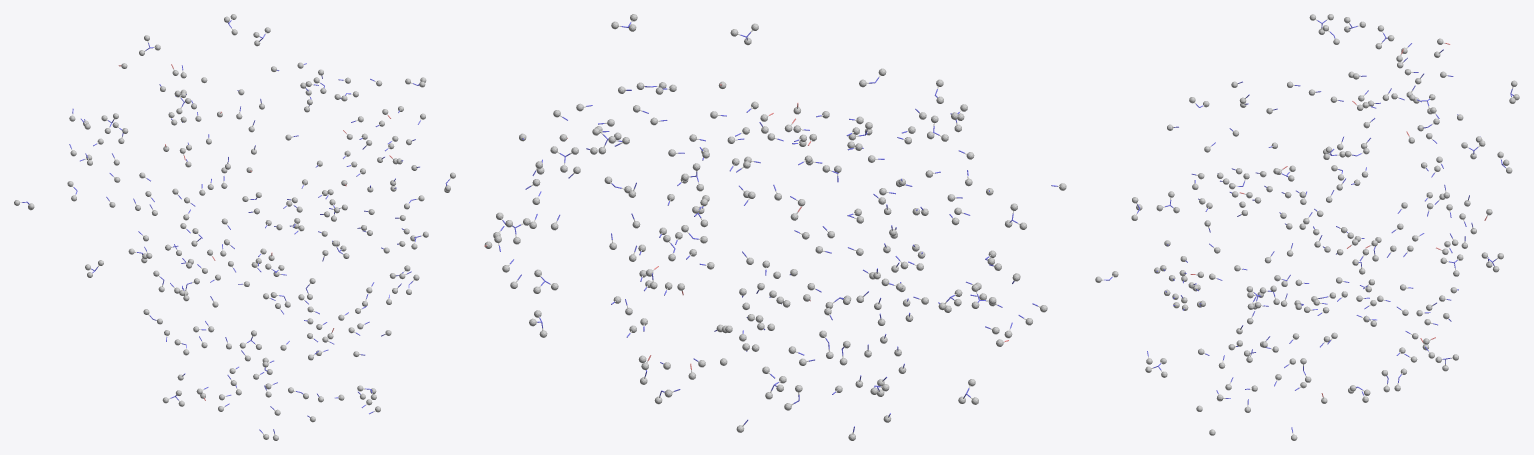
Rendered from 1mbn__ball_and_stick__default__H.glb.
3 renders of one model, left to right at view 1: azimuth 30°, elevation 25°; view 2: azimuth 150°, elevation 25°; view 3: azimuth 270°, elevation 25°, orthographic. The views are drawn at different scales.
Visible parts, largest first — view 1: Renderer Node; view 2: Renderer Node; view 3: Renderer Node.
Part boxes in pixels (x1,y1,x2,y2): Renderer Node: (14,14,455,440); Renderer Node: (484,14,1066,440); Renderer Node: (1095,14,1519,440).
Bounding box in the file's own units: 42.78 × 40.12 × 39.13.
